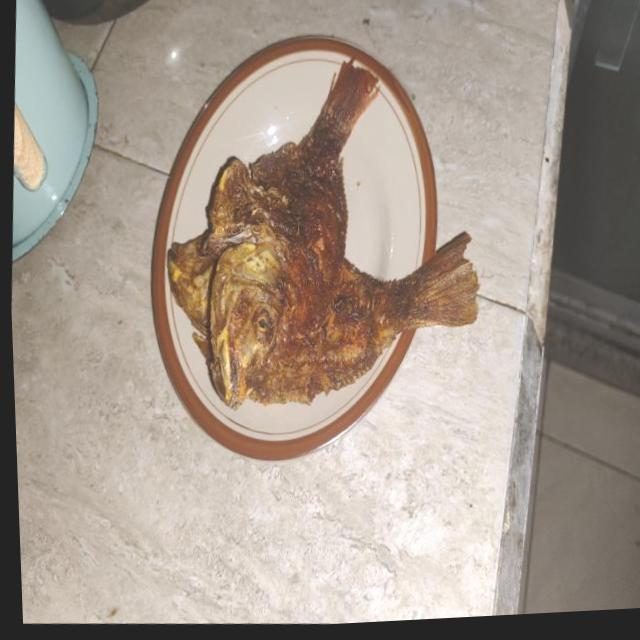ikan_mujair: (205, 62, 377, 410), (168, 218, 478, 400)
